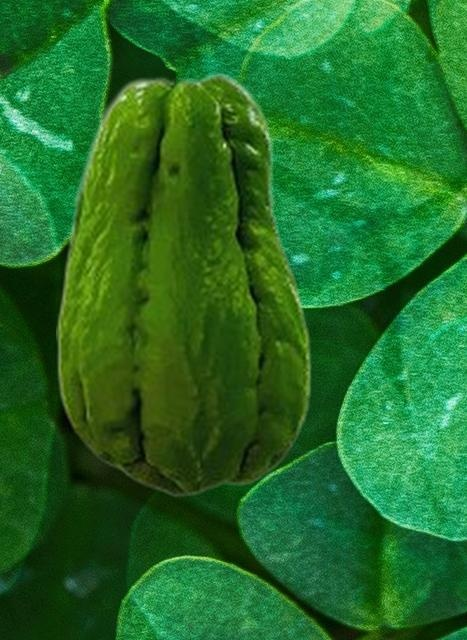sayote: (56, 71, 311, 497)
